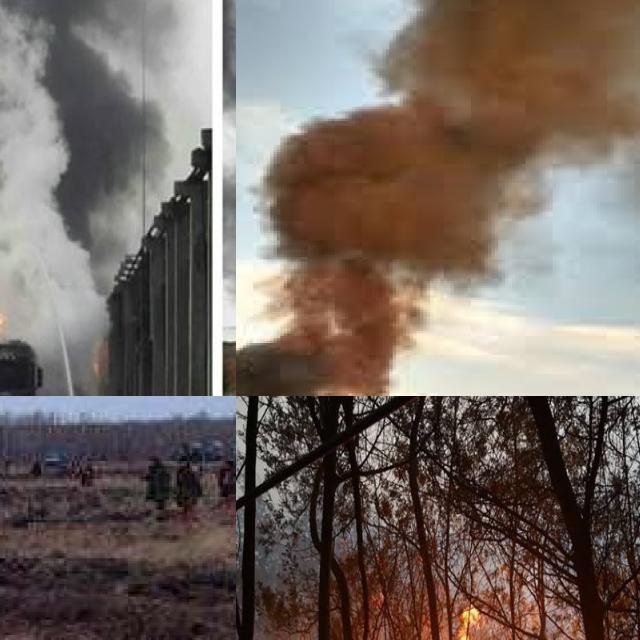fire: (0, 301, 10, 341)
smoke: (236, 0, 637, 396), (0, 0, 165, 382)
